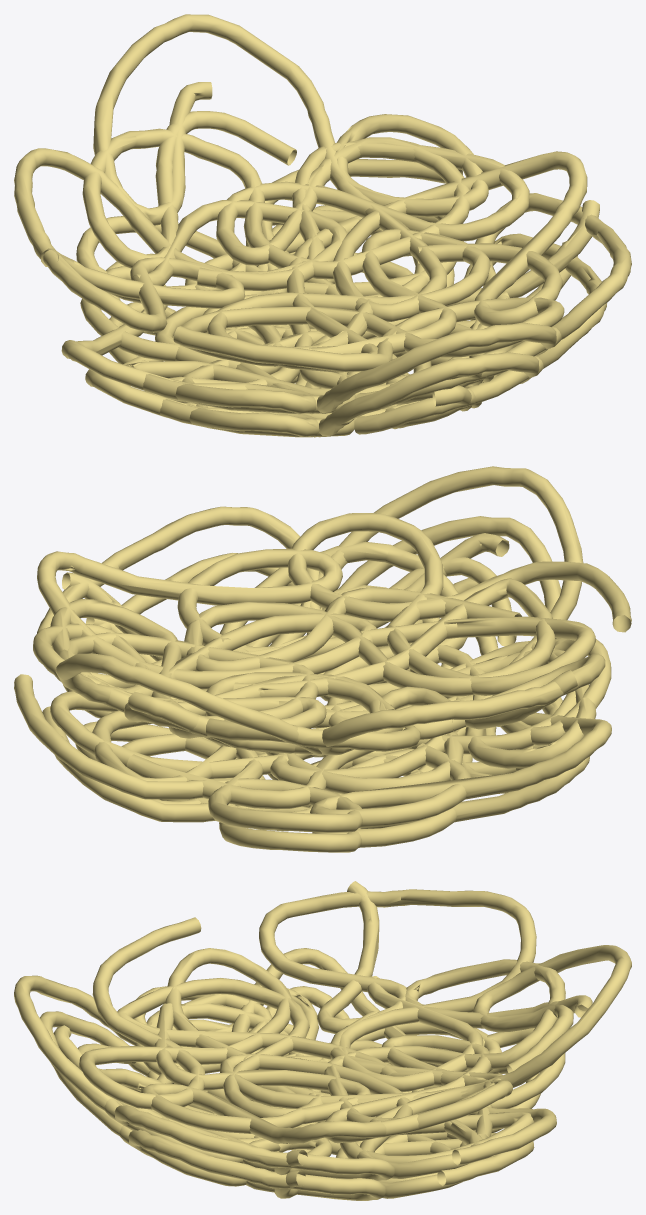
Rendered from BowlNoodles.fbx.
3 views of the same model, one above another, from view 1: azimuth 30°, elevation 25°; view 2: azimuth 150°, elevation 25°; view 3: azimuth 270°, elevation 25° (orthographic). The views are drawn at different scales.
Visible parts, largest first — view 1: GP_Layer; view 2: GP_Layer; view 3: GP_Layer.
Boxes of the visible parts, x1,y1,x2,y2 form: GP_Layer: (14,14,631,437); GP_Layer: (14,466,631,852); GP_Layer: (14,881,631,1200).
Size of the model in its own units: 269 by 108 by 308.
